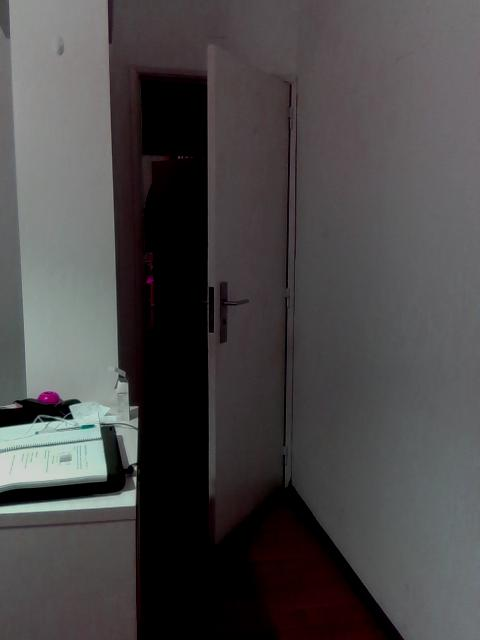semi_door: (127, 37, 297, 554)
